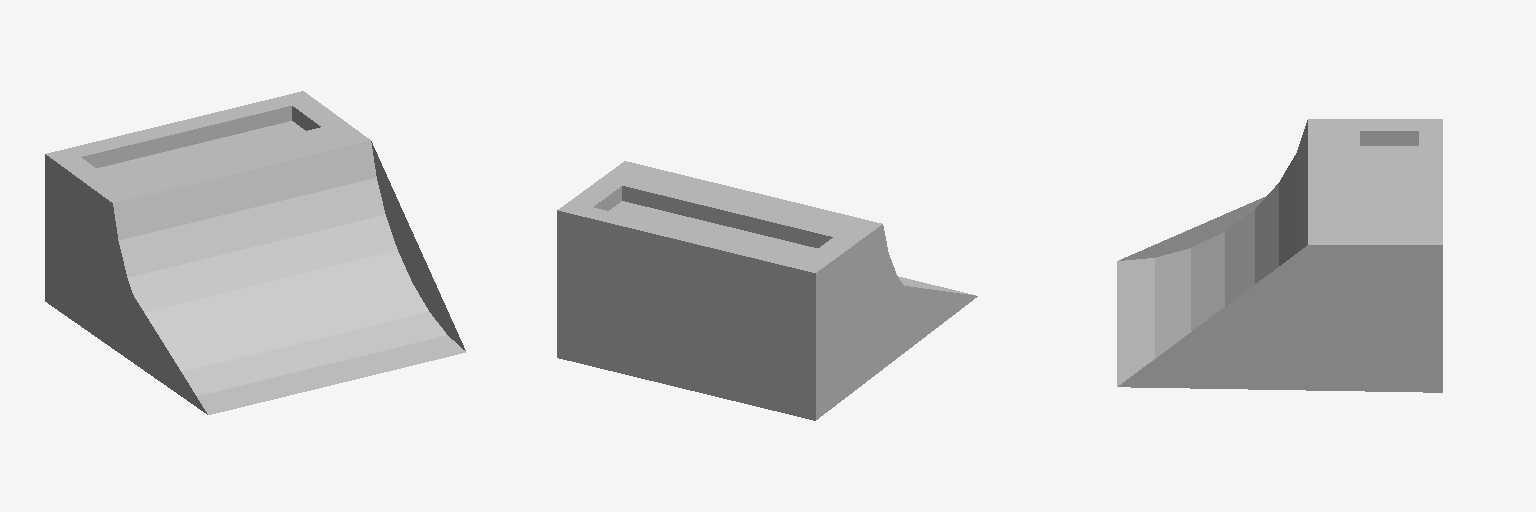
File: quarter_planter.obj
3 views of the same model, side by side, from view 1: azimuth 30°, elevation 25°; view 2: azimuth 150°, elevation 25°; view 3: azimuth 270°, elevation 25° (orthographic).
Parts seen in each view (by area): view 1: Cylinder.003_Cylinder.001; view 2: Cylinder.003_Cylinder.001; view 3: Cylinder.003_Cylinder.001.
Part boxes in pixels (bbox=[...]): Cylinder.003_Cylinder.001: bbox=[45, 91, 465, 414]; Cylinder.003_Cylinder.001: bbox=[557, 161, 977, 420]; Cylinder.003_Cylinder.001: bbox=[1117, 119, 1442, 392].
Bounding box in the file's own units: 1.53 × 0.8366 × 1.68.